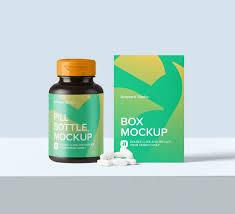jar: (49, 59, 104, 162)
